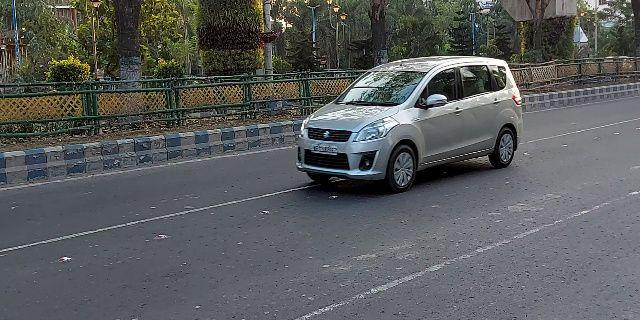Car: (289, 53, 526, 193)
